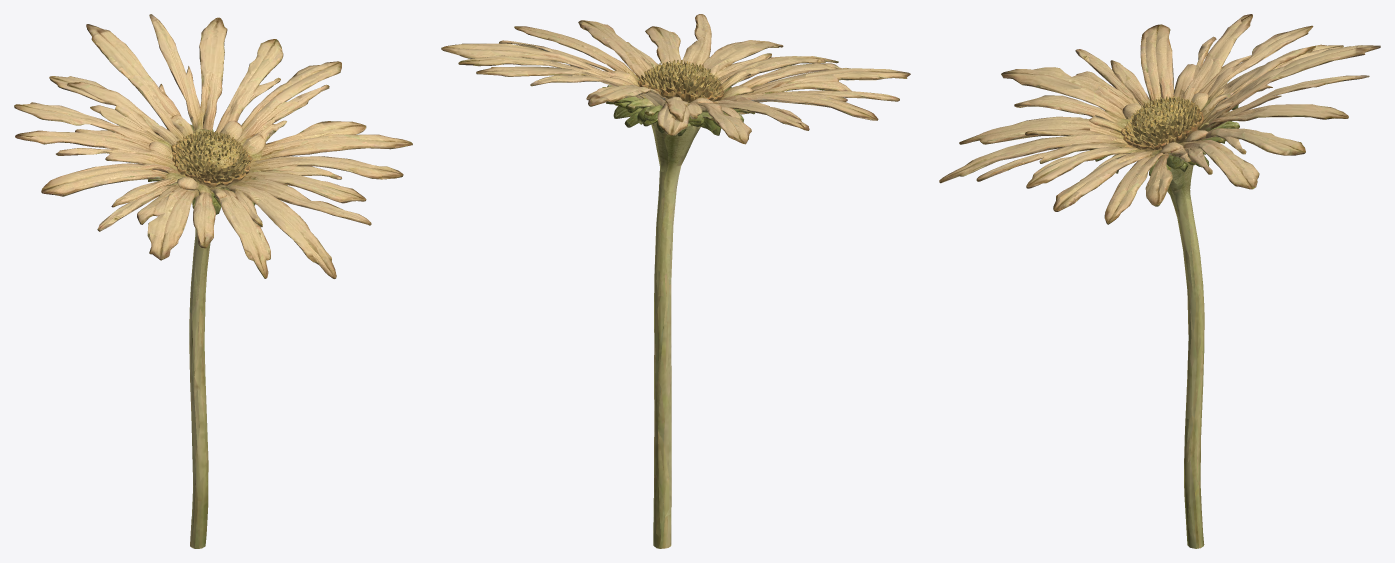
Rendered from rudbeckia-04.glb.
The picture shows the model from 3 angles, left to right: view 1: azimuth 30°, elevation 25°; view 2: azimuth 150°, elevation 25°; view 3: azimuth 270°, elevation 25°; orthographic projection. The views are drawn at different scales.
Visible parts, largest first — view 1: mesh_node; view 2: mesh_node; view 3: mesh_node.
Part boxes in pixels (x1=…): mesh_node: x1=14, y1=14, x2=412, y2=548; mesh_node: x1=441, y1=14, x2=910, y2=548; mesh_node: x1=939, y1=14, x2=1380, y2=548.
Bounding box in the file's own units: 1.49 × 1.9 × 1.56.
Materials: 1 (1 with a texture image).
